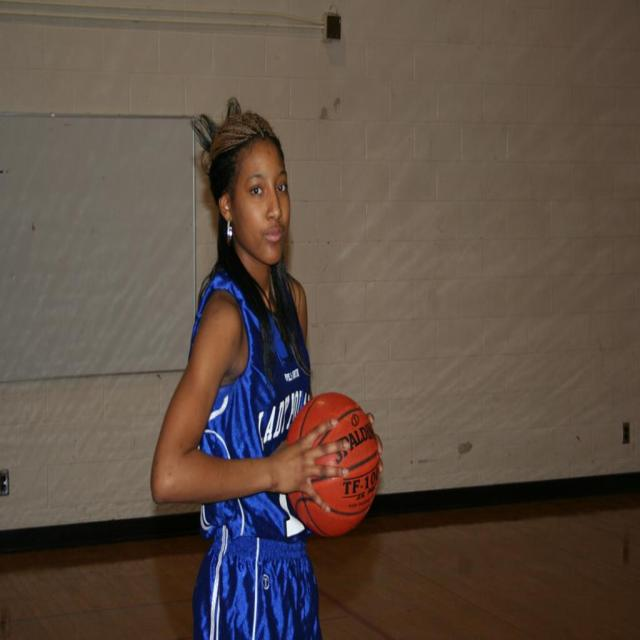Face: (228, 140, 296, 266)
